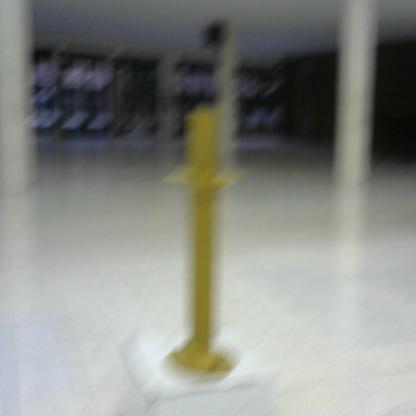pole: (155, 109, 251, 386)
